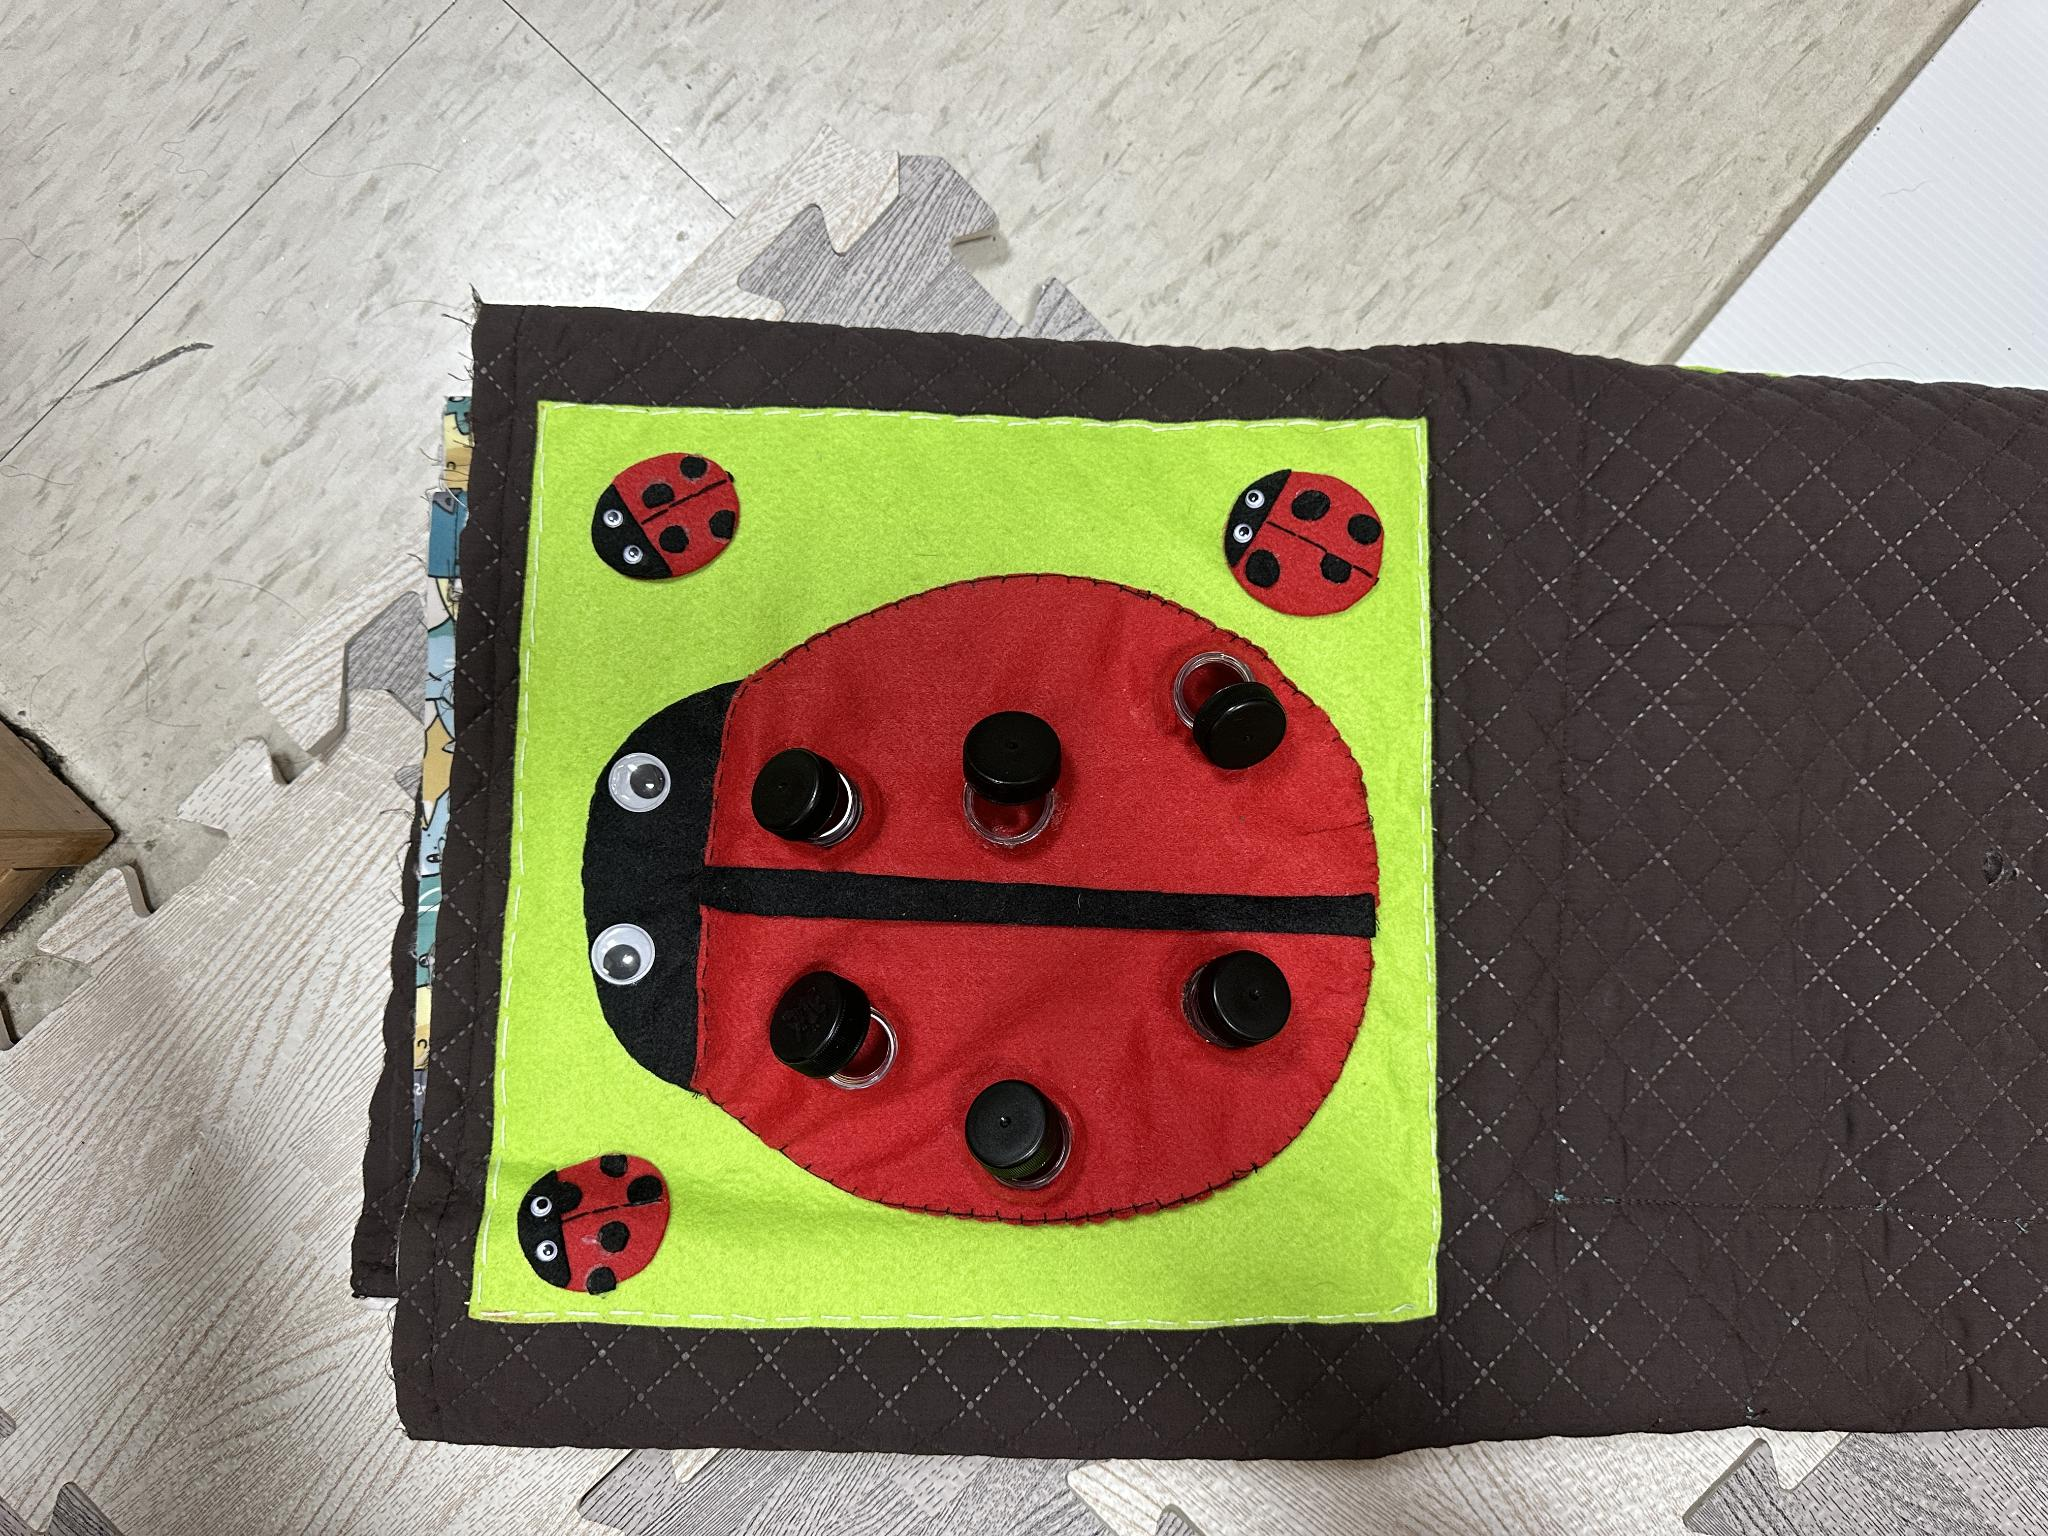cap_ng: (937, 686, 1085, 870), (763, 960, 918, 1104), (1164, 636, 1311, 783), (968, 1060, 1098, 1204), (735, 737, 885, 860)
cap_ok: (1166, 944, 1308, 1065)
